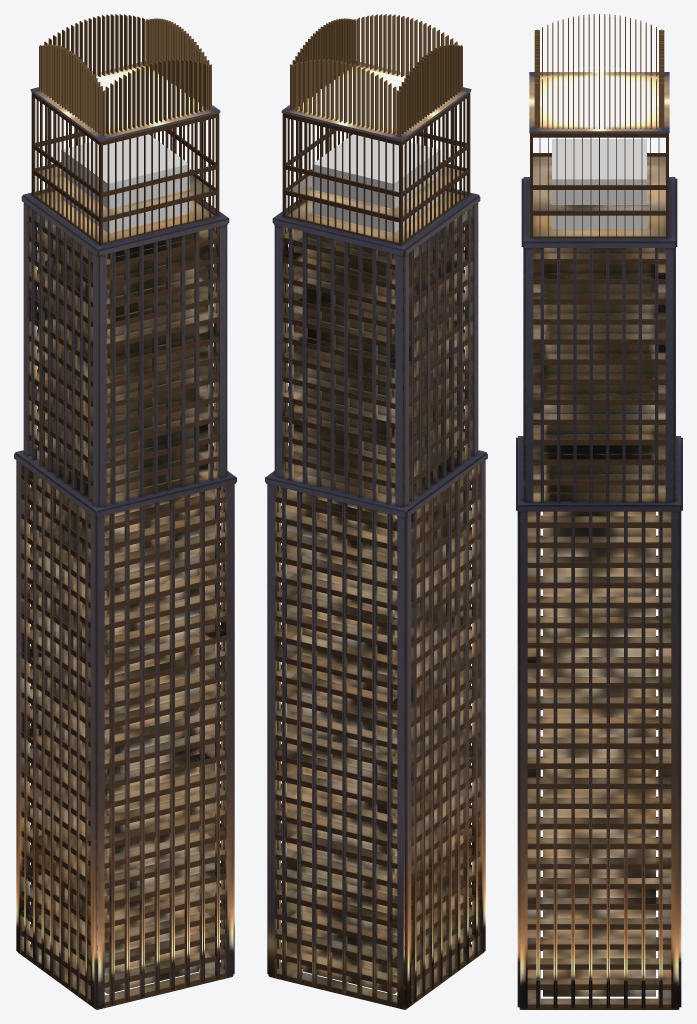
Rendered from ext_tower.glb.
3 renders of one model, left to right at view 1: azimuth 30°, elevation 25°; view 2: azimuth 150°, elevation 25°; view 3: azimuth 270°, elevation 25°, orthographic.
Visible parts, largest first — view 1: ext_tower; view 2: ext_tower; view 3: ext_tower.
Part boxes in pixels (box(x1,y1,x2,y2)): ext_tower: box(14, 14, 236, 1009); ext_tower: box(265, 14, 487, 1009); ext_tower: box(516, 14, 682, 1009).
Bounding box in the file's own units: 29.5 × 182 × 29.5.
Materials: 6 (3 with a texture image).
